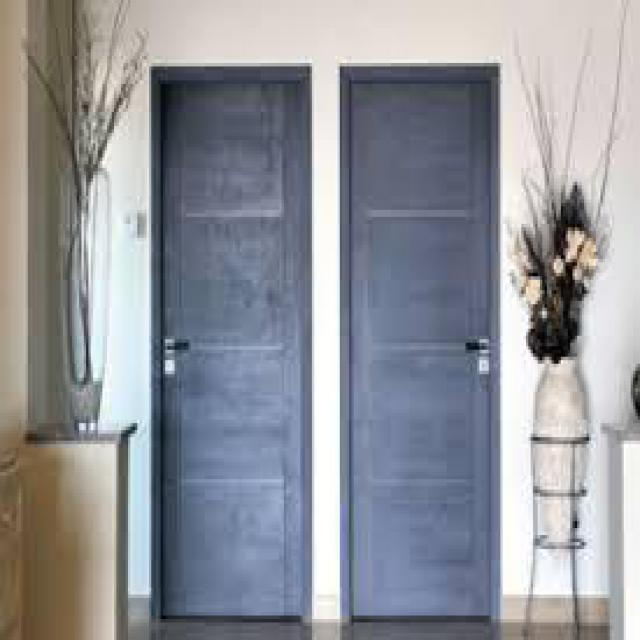close: (119, 18, 324, 636), (324, 31, 516, 636)
